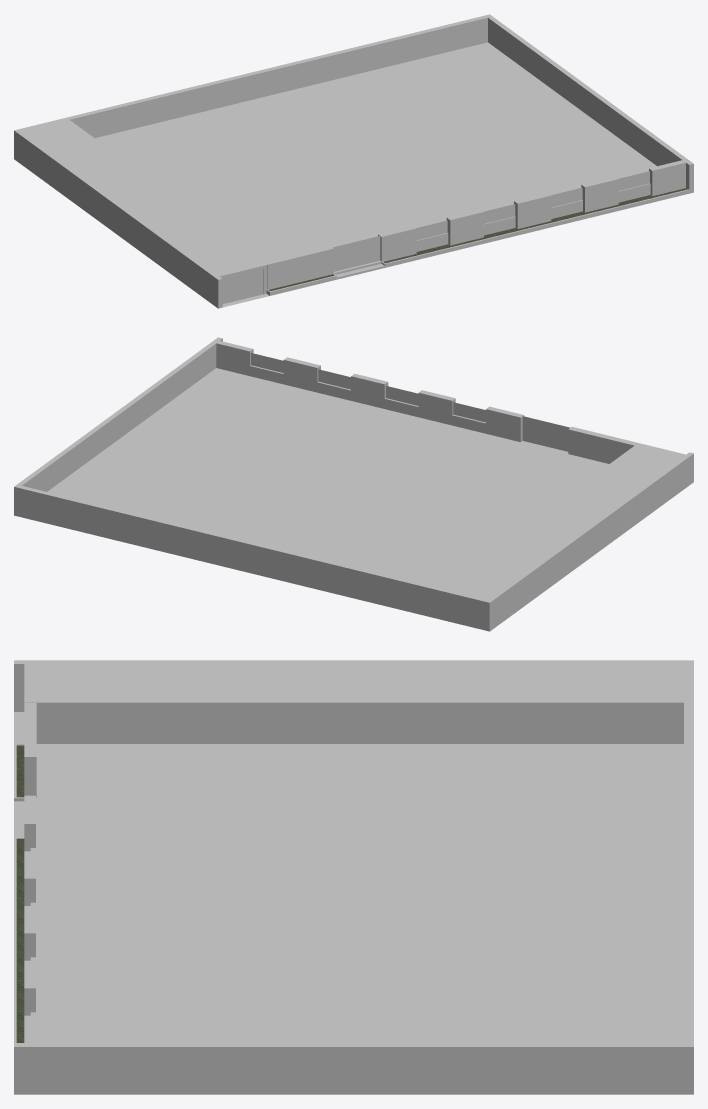
3 renders of one model, top to bottom at view 1: azimuth 30°, elevation 25°; view 2: azimuth 150°, elevation 25°; view 3: azimuth 270°, elevation 25°, orthographic. The views are drawn at different scales.
Visible parts, largest first — view 1: Base-10; view 2: Base-10; view 3: Base-10.
Part boxes in pixels (left/top/right/bottom): Base-10: left=14, top=14, right=693, bottom=308; Base-10: left=14, top=337, right=693, bottom=631; Base-10: left=14, top=660, right=693, bottom=1094.
Size of what is drawn, in the model's own units: 48.44 by 2.8 by 36.
